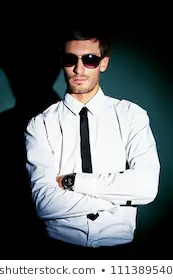F_shirt: (24, 89, 162, 243)
F_tie: (78, 102, 101, 220)
